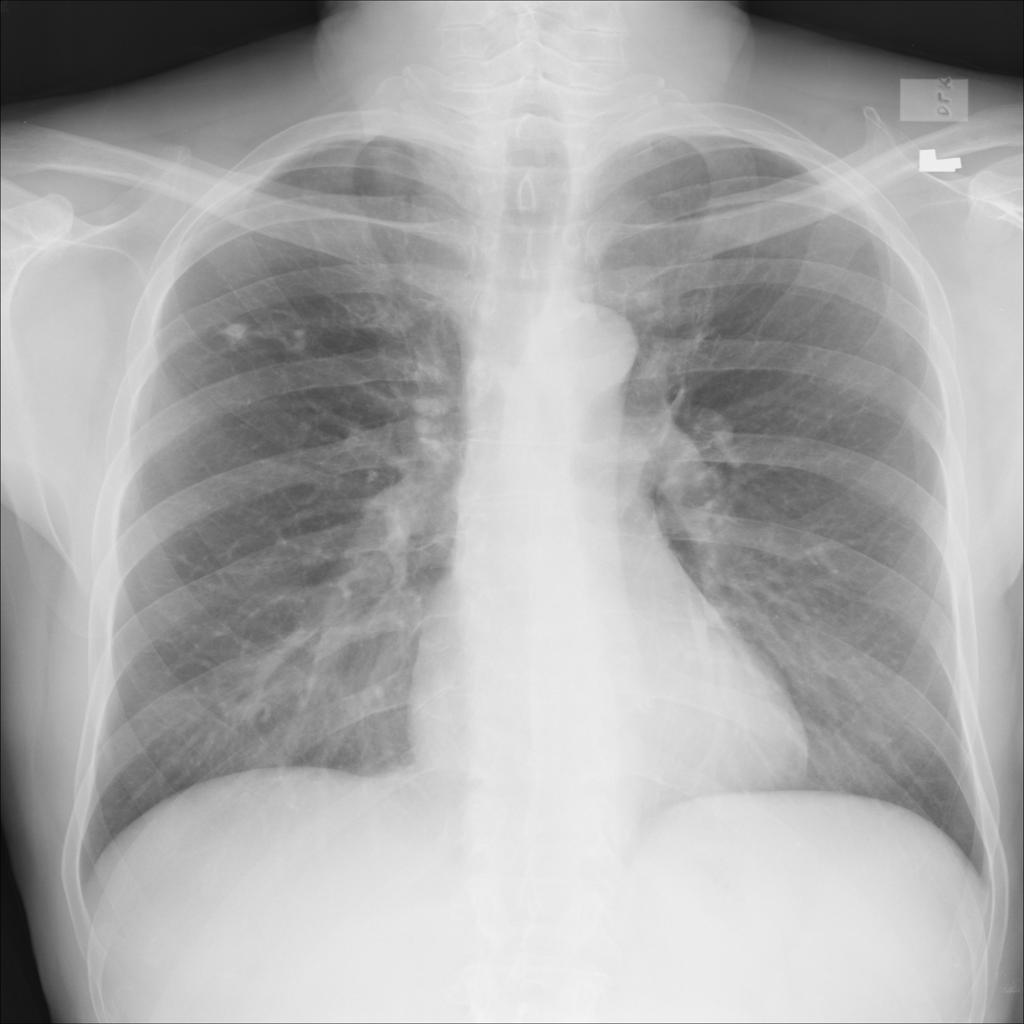nodule: (209, 308, 264, 355)
